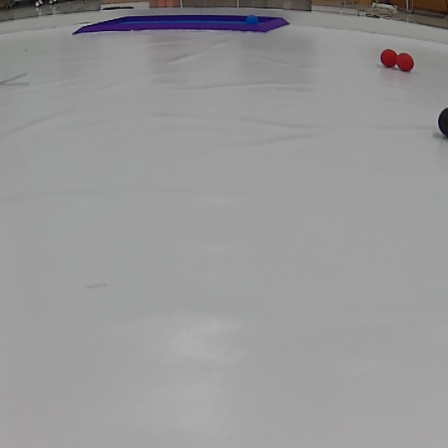black: (434, 106, 448, 135)
blue: (244, 14, 262, 29)
blue_aim: (78, 9, 287, 41)
red: (393, 53, 417, 71), (377, 49, 398, 67)
